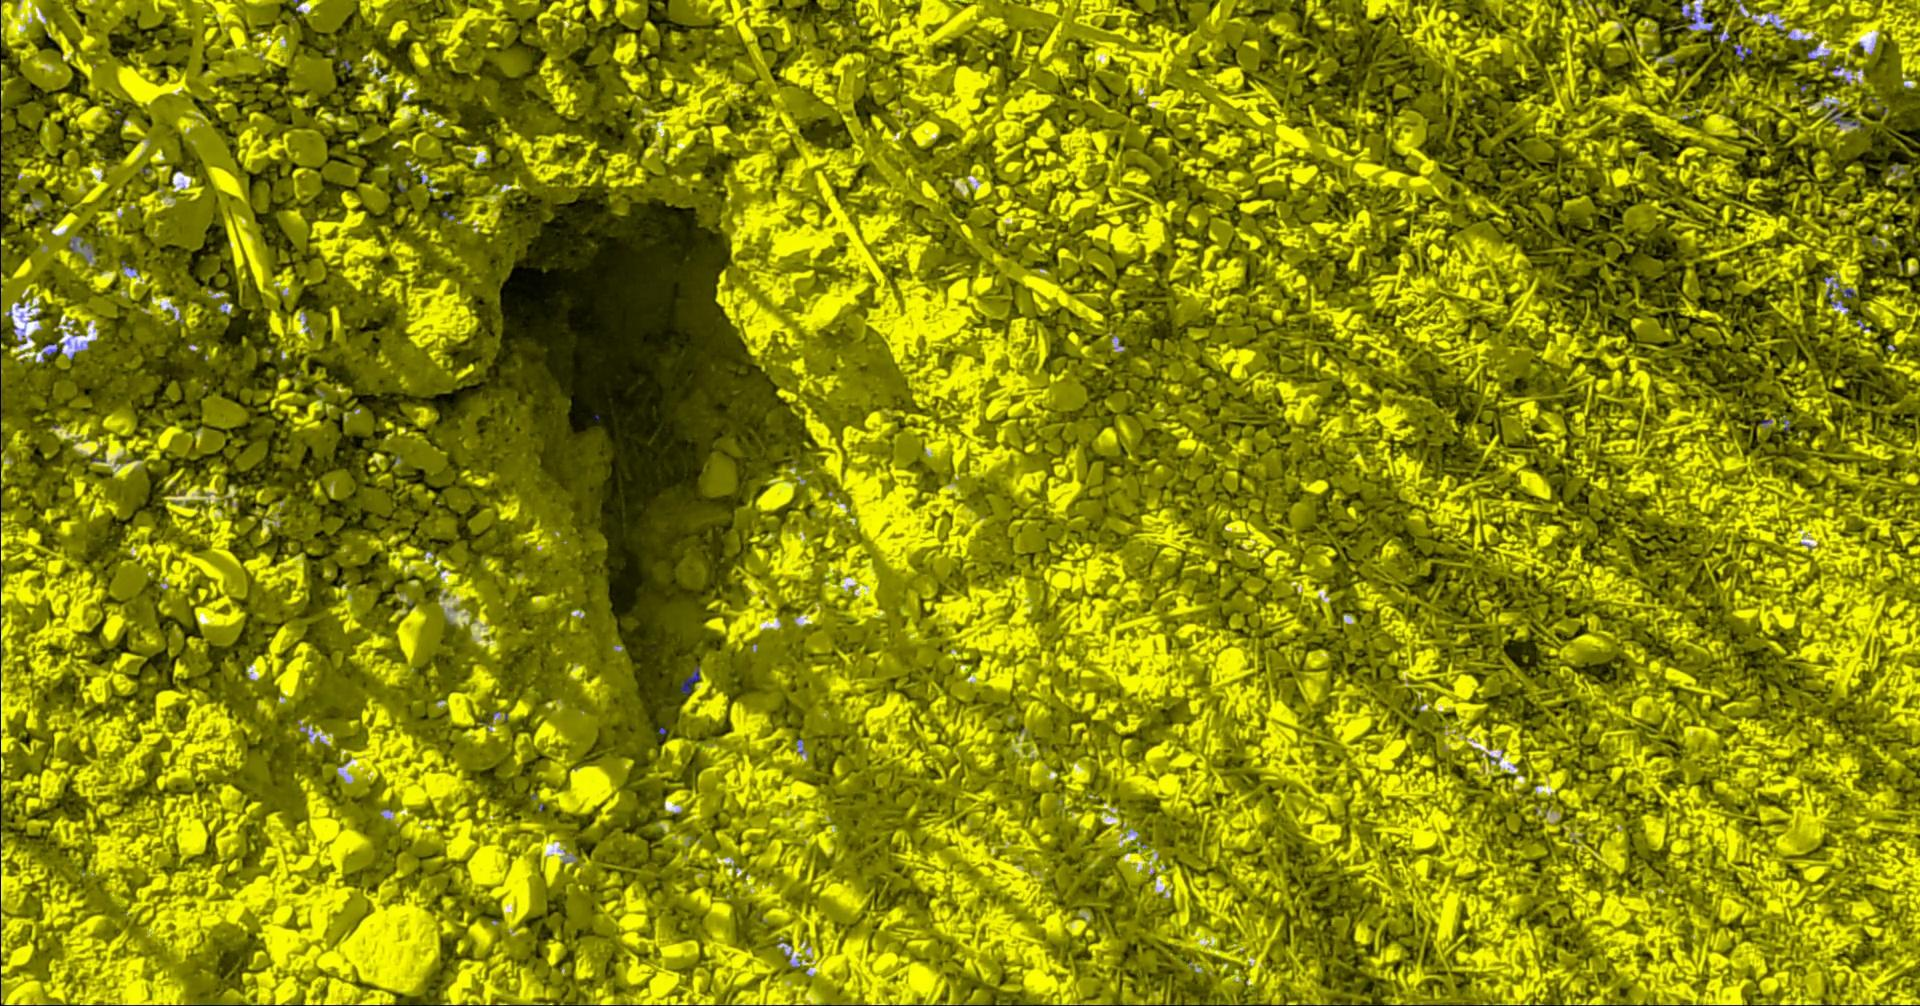ant: (1827, 103, 1859, 126), (681, 666, 700, 694), (42, 343, 63, 361), (1836, 279, 1855, 298), (1732, 44, 1751, 60)
